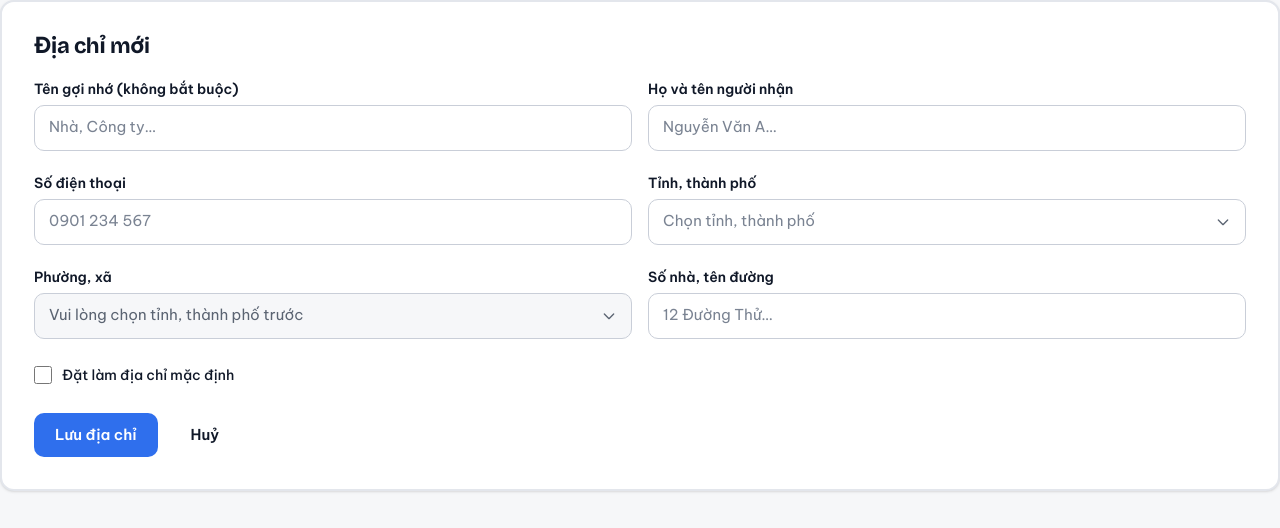
Test: AddressForm (AC-5, AC-6, AC-7, AC-8, AC-9, AC-12) › loads wards and enables ward select when a province is chosen (AC-6)
Expected: the text "Chọn tỉnh, thành phố" is shown, [663, 212, 815, 231]
Click the button "Chọn tỉnh, thành phố" at (739, 221), box [648, 199, 1246, 245]
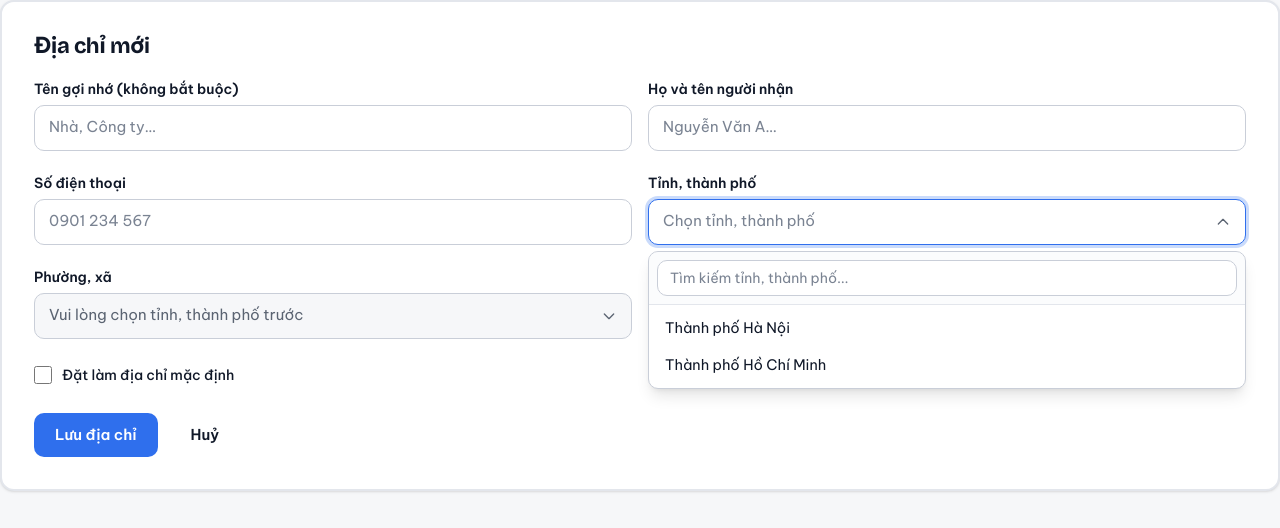
Click the option "Thành phố Hà Nội" at (728, 327), box [653, 309, 1241, 346]
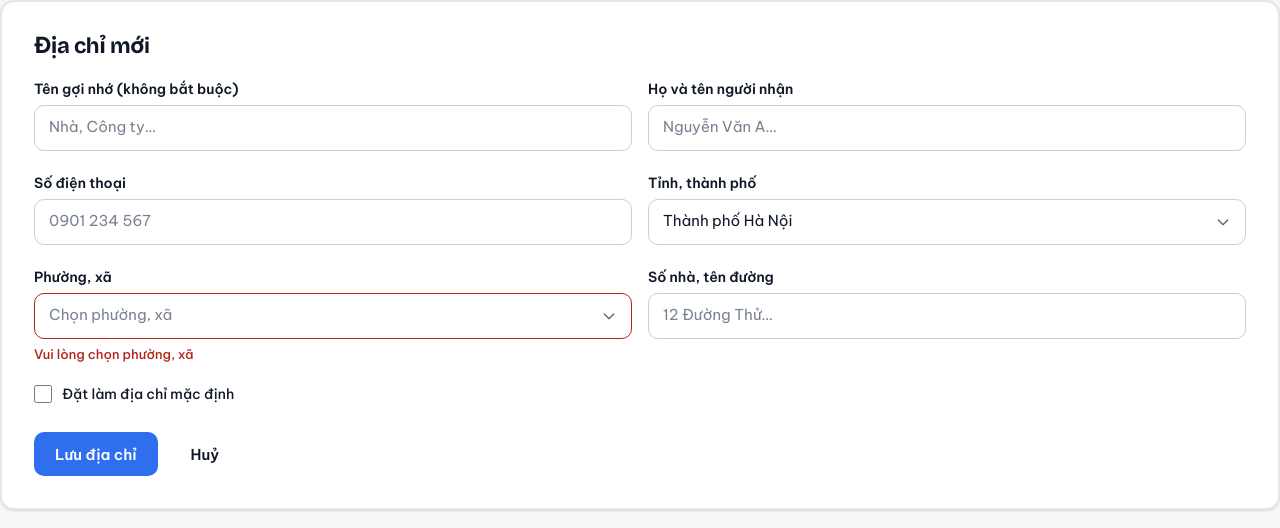
Result: the button "Chọn phường, xã" is enabled at [34, 293, 632, 339]
